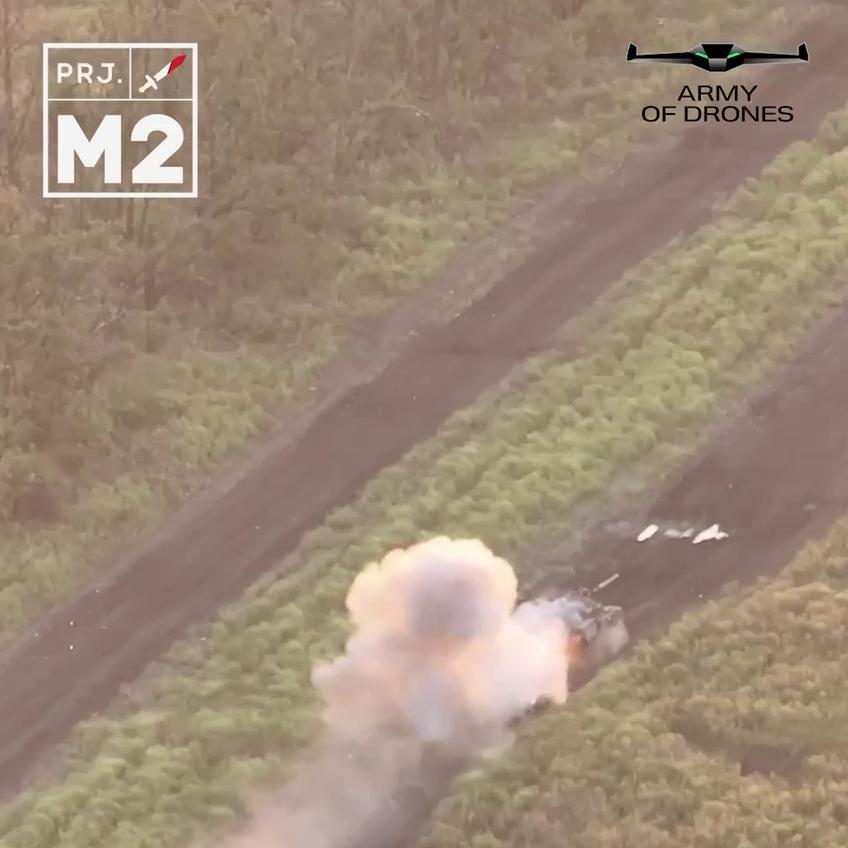tank: (505, 567, 645, 693)
